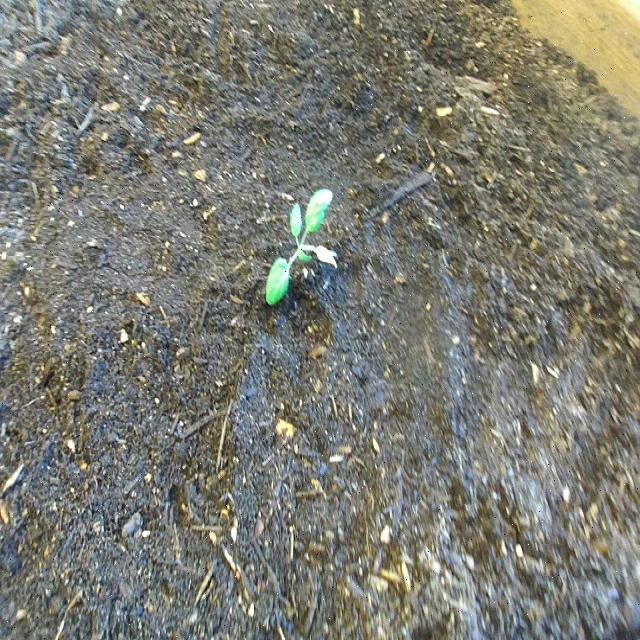Healthy: (255, 169, 349, 326)
